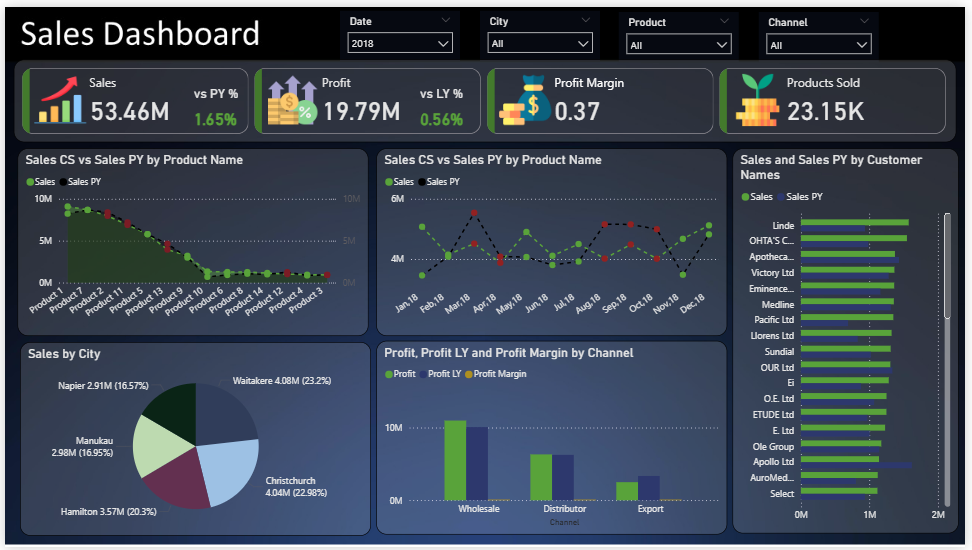

The page's visual inventory and layout, read from the dashboard file:
{"tool":"powerbi","page":{"name":"Sales Dashboard","canvas":[1280,720],"ordinal":0},"visuals":[{"type":"slicer","fields":{"Values":["DateTable.Year","DateTable.Month Short Name Plus Year"]},"box":[447.1,5.7,160,67.1],"z":0},{"type":"slicer","fields":{"Values":["Regions_Table.City"]},"box":[632.9,5.7,160,67.1],"z":1000},{"type":"slicer","fields":{"Values":["Products_Data.Product Name"]},"box":[818.5,6.2,160,66.9],"z":2000},{"type":"slicer","fields":{"Values":["Sales_Data.Channel"]},"box":[1004.6,6.2,160,66.9],"z":3000},{"type":"lineClusteredColumnComboChart","title":"Sales CS vs Sales PY by Product Name","fields":{"Category":["Products_Data.Product Name"],"Y":["Measure Table.Sales"],"Y2":["Measure Table.Sales PY"]},"box":[16,189,468.3,250],"z":4000},{"type":"lineClusteredColumnComboChart","title":"Sales CS vs Sales PY by Product Name","fields":{"Y":["Measure Table.Sales"],"Y2":["Measure Table.Sales PY"],"Category":["DateTable.Month Short Name Plus Year"]},"box":[495,188,468.3,250],"z":5000},{"type":"donutChart","fields":{"Y":["Measure Table.Sales"],"Category":["Regions_Table.City"]},"box":[20,446.7,468.3,258.3],"z":6000},{"type":"areaChart","fields":{"Category":["Sales_Data.Channel"],"Y":["Measure Table.Profit","Measure Table.Profit LY"],"Y2":["Measure Table.Profit Margin"]},"box":[495,445,468.3,258.3],"z":7000},{"type":"clusteredBarChart","fields":{"Y":["Measure Table.Sales","Measure Table.Sales PY"],"Category":["Customer_Data.Customer Names"]},"box":[970,188.3,301.7,513.3],"z":8000},{"type":"cardVisual","fields":{"Data":["Measure Table.Sales","Measure Table.Profit","Measure Table.Profit Margin","Measure Table.Products Sold"]},"box":[11.3,70.7,1256.7,110],"z":9000},{"type":"cardVisual","title":"vs PY %","fields":{"Data":["Measure Table.Sales vs py %"]},"box":[246.7,105,80,65],"z":10000},{"type":"cardVisual","title":"vs LY %","fields":{"Data":["Measure Table.Profit vs LY %"]},"box":[548.3,105,116.7,95],"z":11000}]}

Visuals, with their boxes in screenshot pixels (x1, y1, x2, y2), scaled from the page's 1280x720 canvas onto the 972x550 screenshot:
slicer - DateTable.Year x DateTable.Month Short Name Plus Year: select_region(340, 4, 461, 56)
slicer - Regions_Table.City: select_region(481, 4, 602, 56)
slicer - Products_Data.Product Name: select_region(622, 5, 743, 56)
slicer - Sales_Data.Channel: select_region(763, 5, 884, 56)
"Sales CS vs Sales PY by Product Name" lineClusteredColumnComboChart: select_region(12, 144, 368, 335)
"Sales CS vs Sales PY by Product Name" lineClusteredColumnComboChart: select_region(376, 144, 732, 335)
donutChart - Measure Table.Sales x Regions_Table.City: select_region(15, 341, 371, 539)
areaChart - Sales_Data.Channel x Measure Table.Profit: select_region(376, 340, 732, 537)
clusteredBarChart - Measure Table.Sales x Measure Table.Sales PY: select_region(737, 144, 966, 536)
cardVisual - Measure Table.Sales x Measure Table.Profit: select_region(9, 54, 963, 138)
"vs PY %" cardVisual: select_region(187, 80, 248, 130)
"vs LY %" cardVisual: select_region(416, 80, 505, 153)
